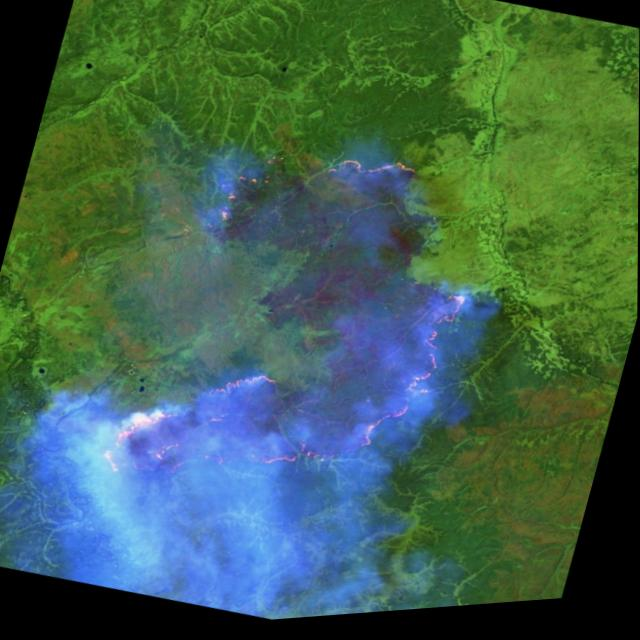fire: (83, 97, 511, 563)
